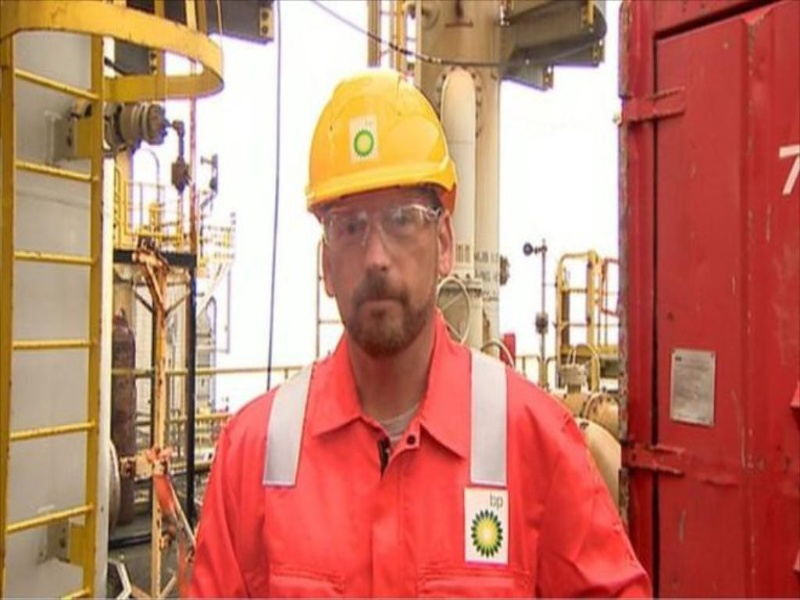Baret: (304, 67, 453, 199)
Gozluk: (319, 203, 447, 256)
